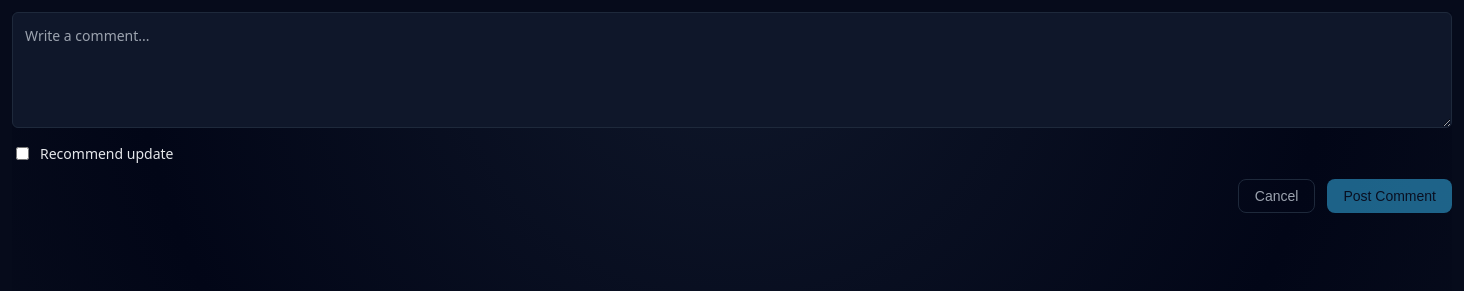
Test case: CommentForm › shows error message on submission failure
In the text box with placeholder "Write a comment...": (732, 70) [12,12,1452,128], type "Test comment"
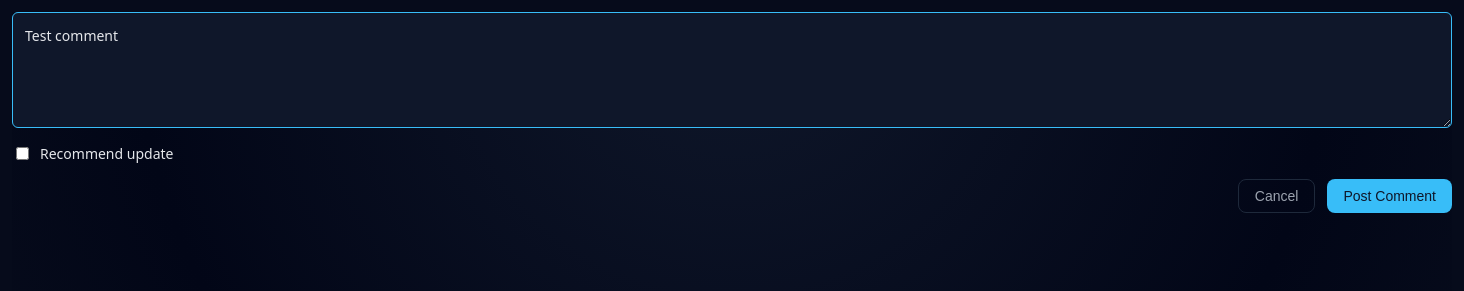
Click the button "Post Comment": (1390, 196) [1327,179,1452,213]
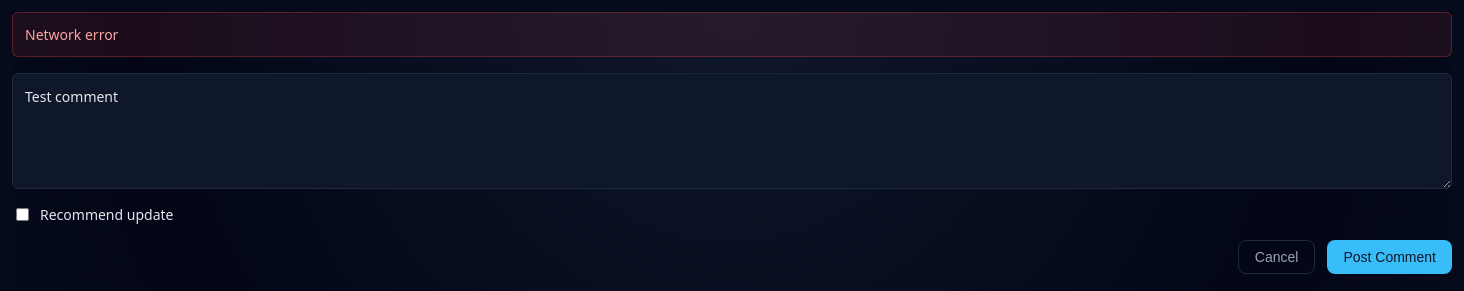
Now the text "Network error" is shown, box [12,12,1452,57]
